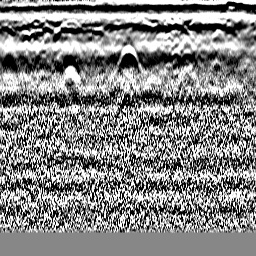cavity: (115, 41, 139, 68)
